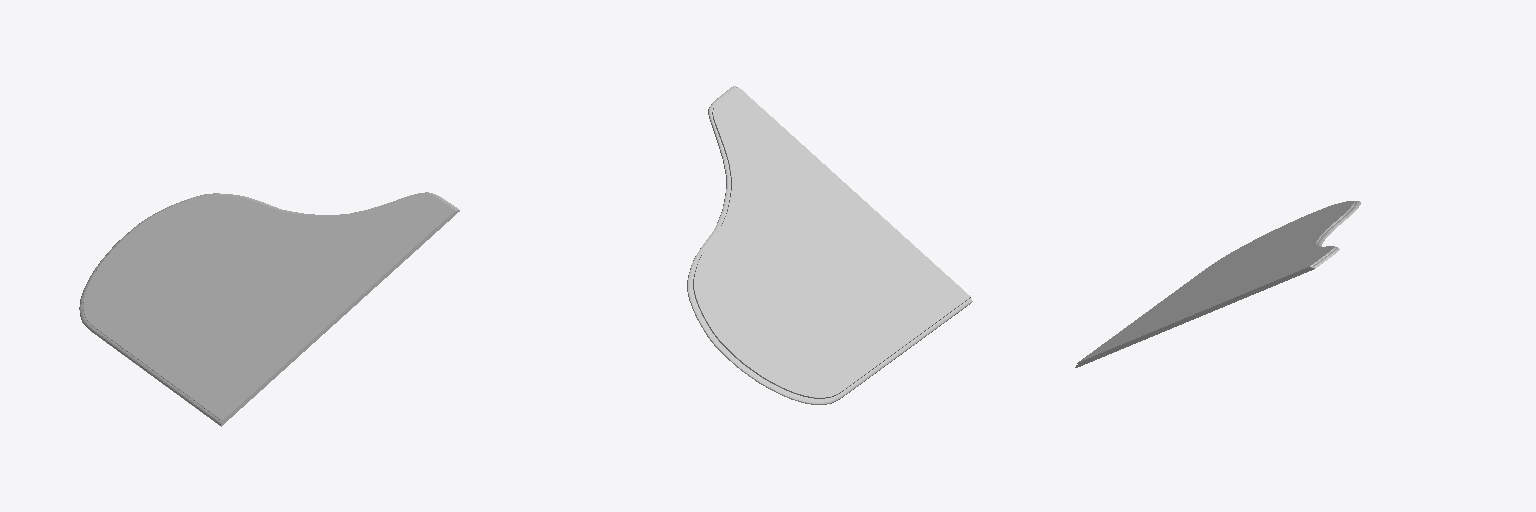
The model's file is Piano_part_8.obj.
3 views of the same model, side by side, from view 1: azimuth 30°, elevation 25°; view 2: azimuth 150°, elevation 25°; view 3: azimuth 330°, elevation 25° (orthographic).
Parts seen in each view (by area): view 1: default; view 2: default; view 3: default.
Part boxes in pixels (x1,y1,x2,y2): default: (79,192,459,426); default: (687,86,972,404); default: (1075,201,1360,367).
Size of the model in its own units: 75.21 by 47.71 by 92.06.